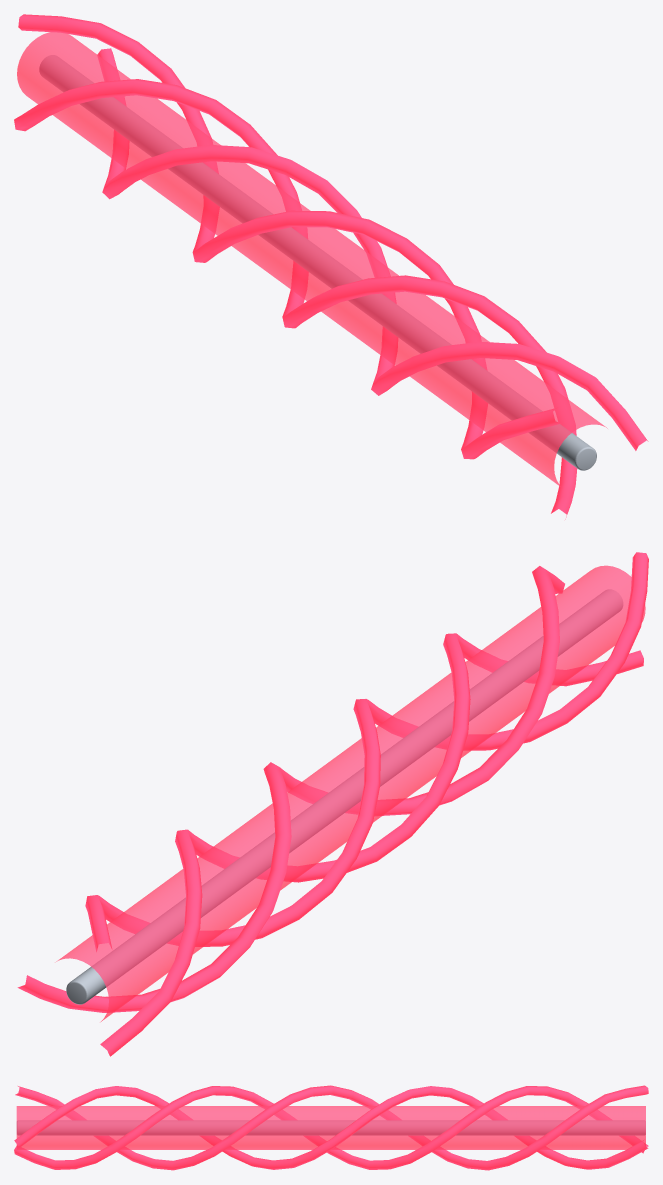
The model's file is proj_filament_beam.glb.
3 renders of one model, top to bottom at view 1: azimuth 30°, elevation 25°; view 2: azimuth 150°, elevation 25°; view 3: azimuth 270°, elevation 25°, orthographic. The views are drawn at different scales.
Visible parts, largest first — view 1: filament_beam_sheath, filament_beam_core, filament_beam_helix2, filament_beam_helix0, filament_beam_helix1; view 2: filament_beam_sheath, filament_beam_core, filament_beam_helix0, filament_beam_helix1, filament_beam_helix2; view 3: filament_beam_sheath, filament_beam_core, filament_beam_helix2, filament_beam_helix1, filament_beam_helix0.
Boxes of the visible parts, <box> form: filament_beam_sheath: <box>17,32,607,488</box>; filament_beam_core: <box>39,55,596,470</box>; filament_beam_helix2: <box>14,79,577,519</box>; filament_beam_helix0: <box>97,48,648,450</box>; filament_beam_helix1: <box>18,14,561,459</box>; filament_beam_sheath: <box>55,565,645,1022</box>; filament_beam_core: <box>66,589,622,1004</box>; filament_beam_helix0: <box>17,566,564,1012</box>; filament_beam_helix1: <box>85,552,648,952</box>; filament_beam_helix2: <box>100,633,643,1056</box>; filament_beam_sheath: <box>16,1106,645,1149</box>; filament_beam_core: <box>17,1120,645,1135</box>; filament_beam_helix2: <box>14,1086,648,1169</box>; filament_beam_helix1: <box>15,1085,648,1170</box>; filament_beam_helix0: <box>14,1086,648,1169</box>.
Size of the model in its own units: 0.136 by 0.136 by 1.01.
